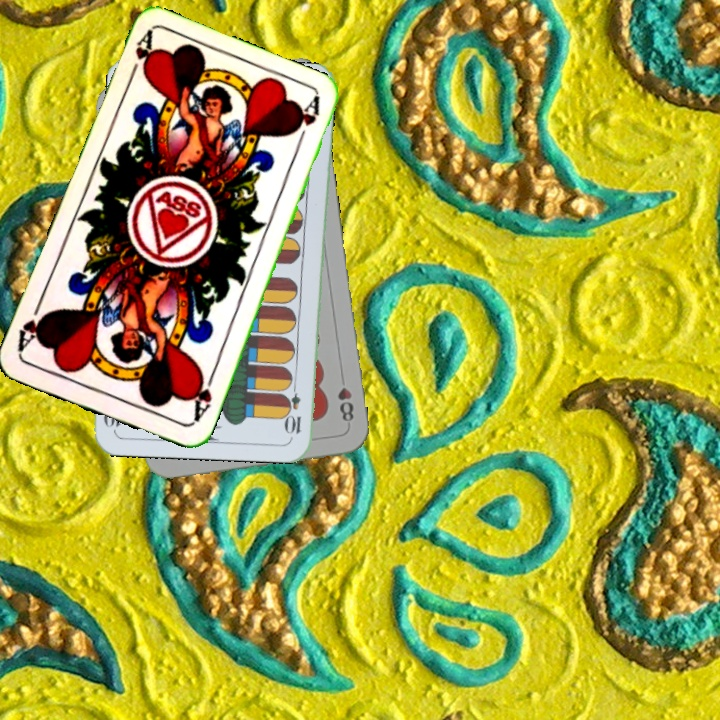E10: (285, 377, 304, 437)
H8: (333, 383, 357, 428)
HA: (124, 28, 158, 85), (187, 368, 217, 425)
